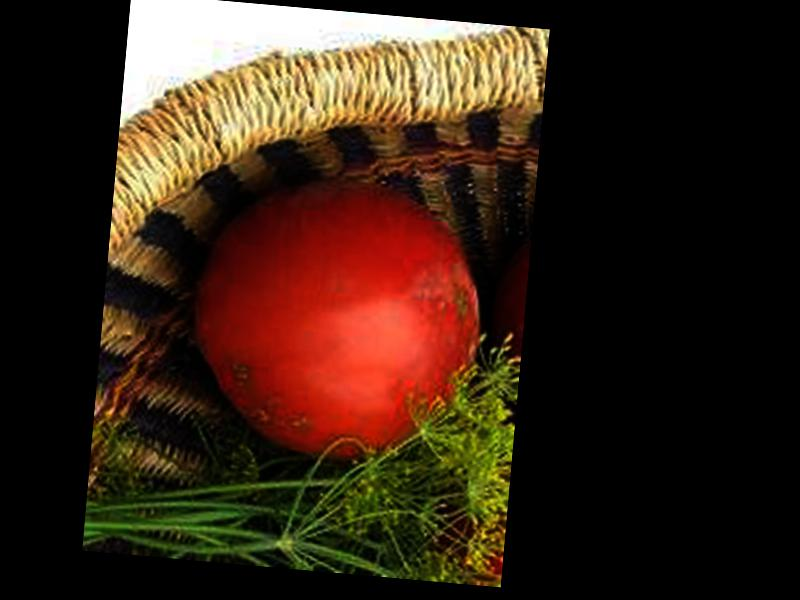Tomato: (185, 168, 493, 473)
